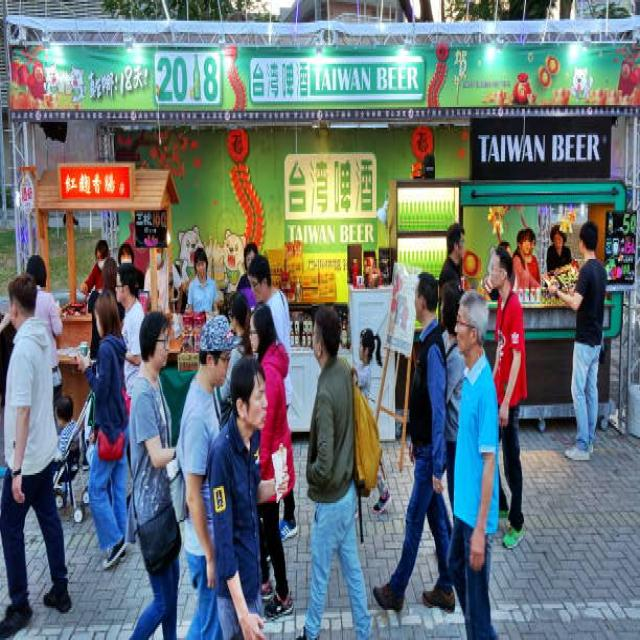Emperan: (434, 104, 640, 467), (0, 126, 206, 483)
